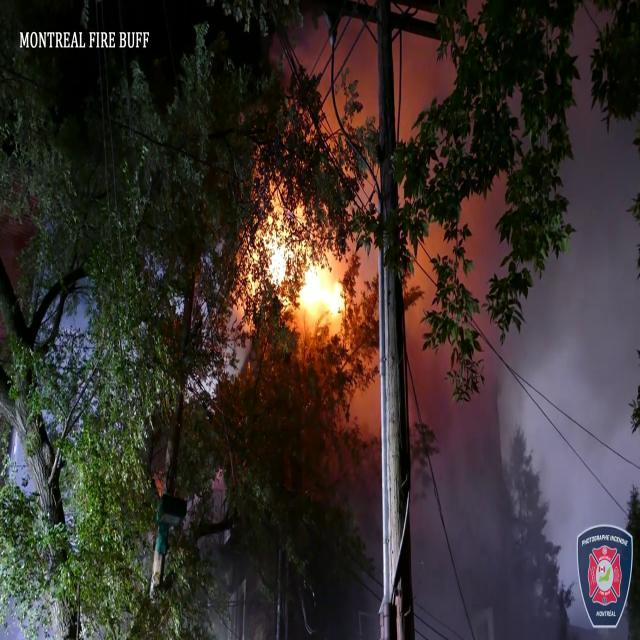Fire: (235, 186, 351, 343)
